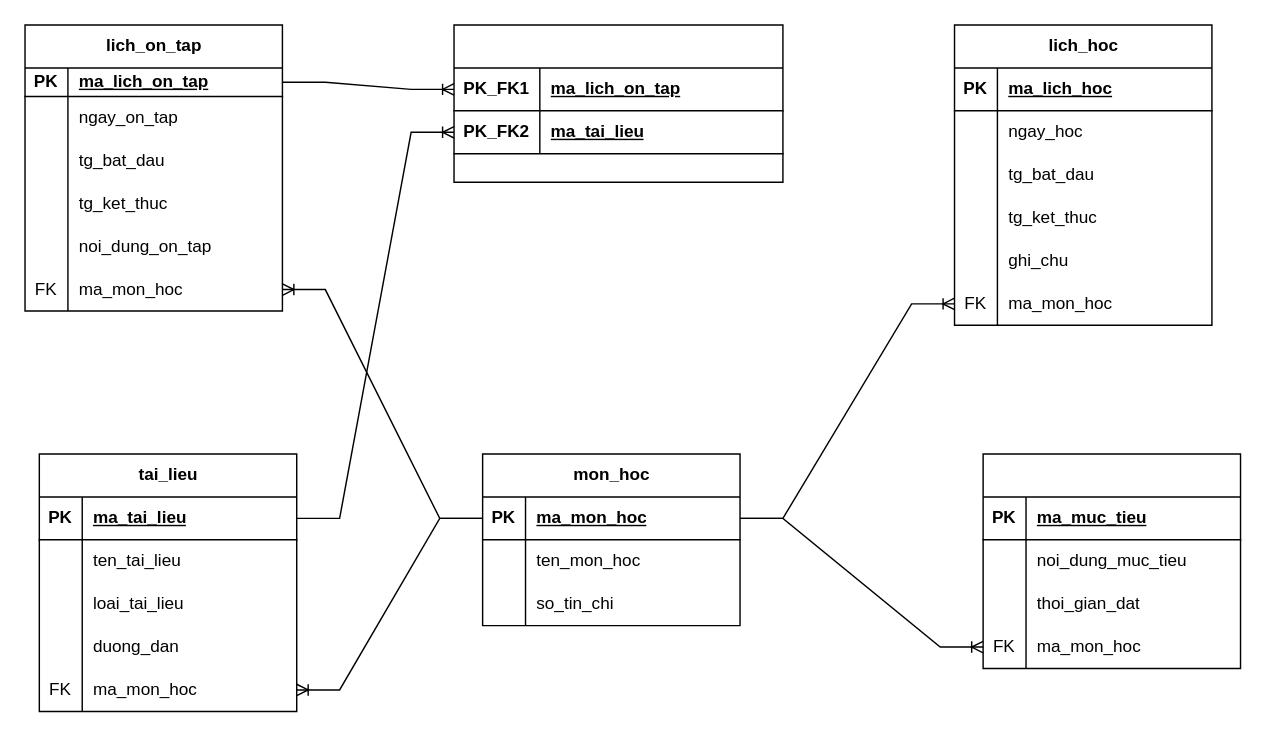
The diagram is 1266 pixels wide and 736 high, and some of its shapes have lost their labels. Each missing label, with the box of its shape:
chi_tiet_on_tap: (453, 24, 783, 182)
muc_tieu_hoc_tap: (982, 453, 1241, 669)
